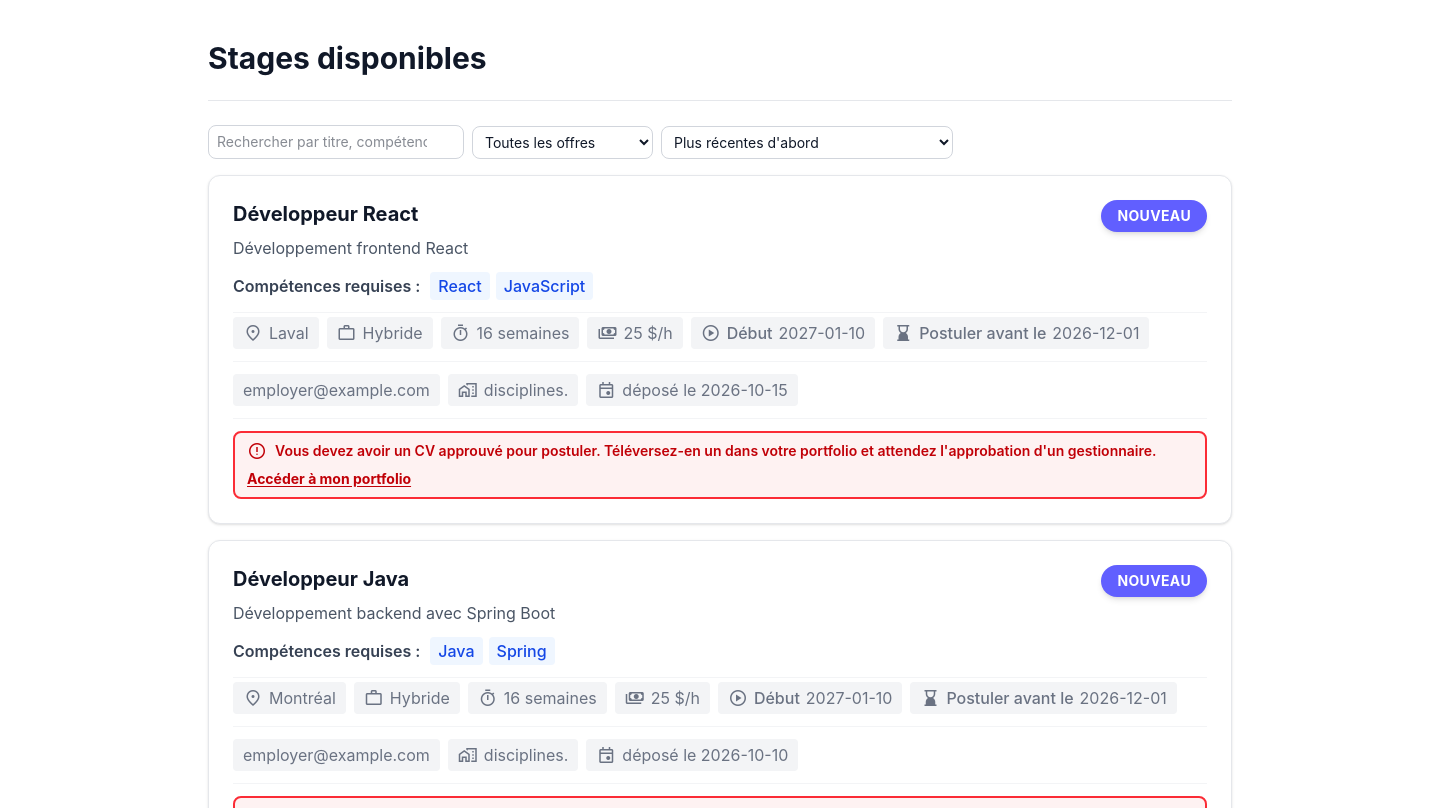
Test: StudentInternships supports searching and sorting › shouldShowNoMatchesWhenSearchHasNoResults
Expected: the heading "Développeur React" is shown, left=233, top=202, right=418, bottom=226
Type "Python Django" into the search field.
click(336, 142); type("Python Django")  # box left=208, top=125, right=464, bottom=159
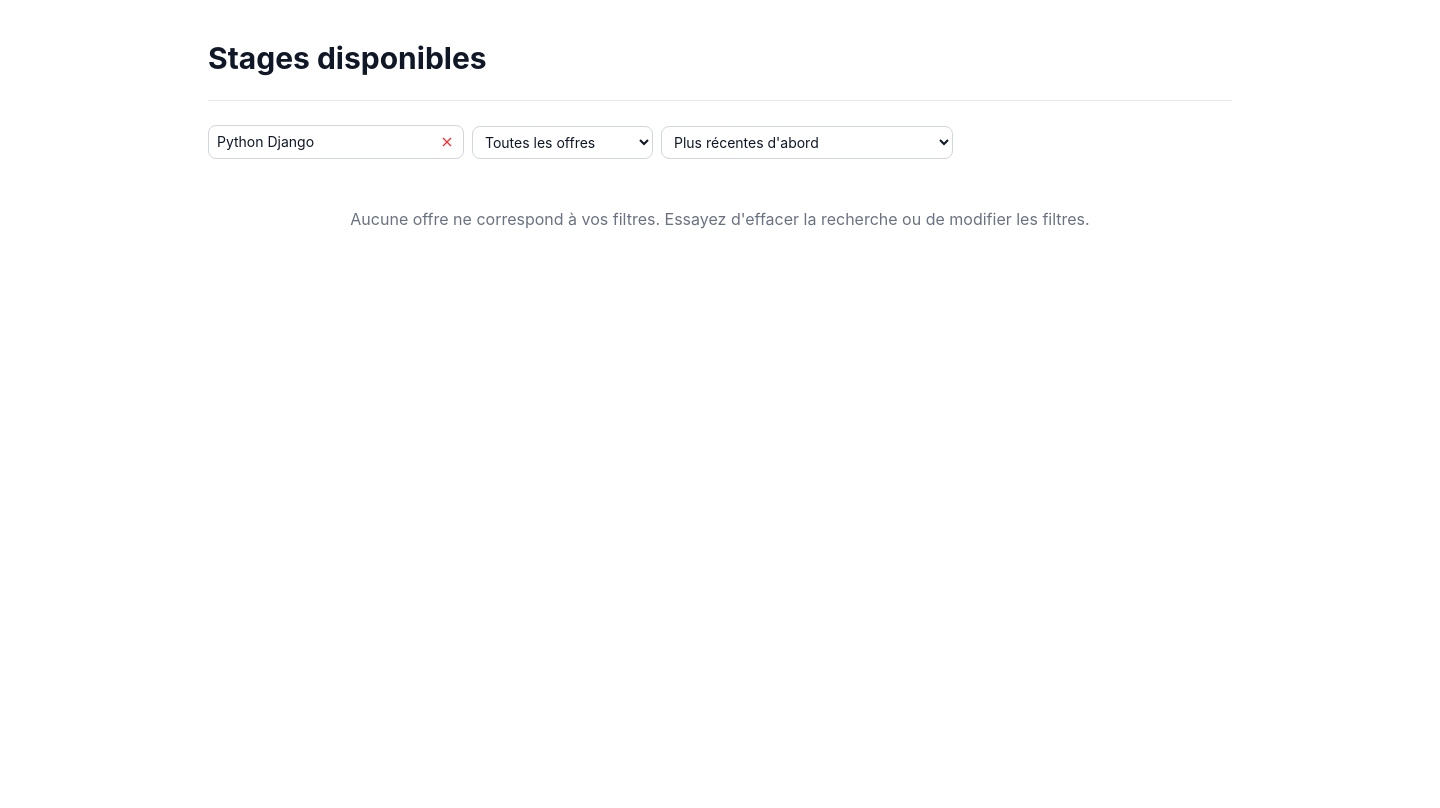
Now the text "Aucune offre ne correspond à vos filtres. Essayez d'effacer la recherche ou de modifier les filtres." is shown, box left=350, top=209, right=1090, bottom=229
Now the heading "Développeur Java" is gone
Now the heading "Développeur React" is gone
